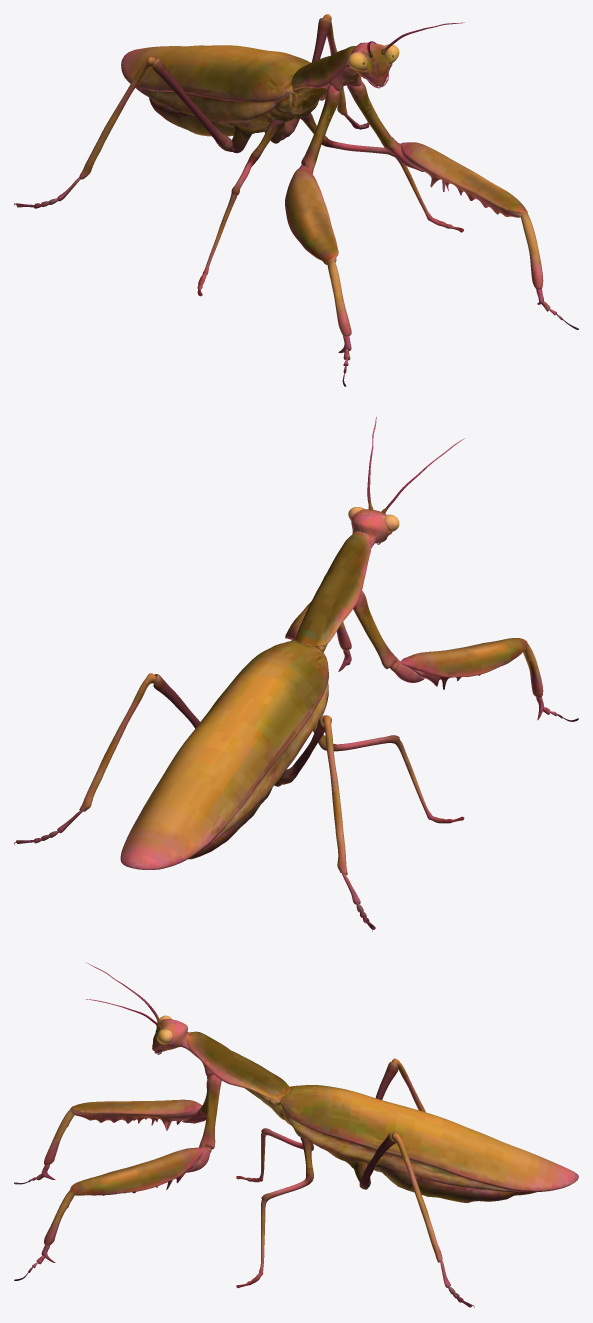
File: brownmantis.glb
3 views of the same model, one above another, from view 1: azimuth 30°, elevation 25°; view 2: azimuth 150°, elevation 25°; view 3: azimuth 270°, elevation 25° (orthographic). The views are drawn at different scales.
Parts seen in each view (by area): view 1: praying_mantis.1; view 2: praying_mantis.1; view 3: praying_mantis.1.
Boxes of the visible parts, bbox=[...] form: praying_mantis.1: bbox=[14, 14, 578, 386]; praying_mantis.1: bbox=[14, 417, 578, 931]; praying_mantis.1: bbox=[14, 962, 578, 1307].
Size of the model in its own units: 0.0873 by 0.0689 by 0.1391.
Materials: 1 (1 with a texture image).
